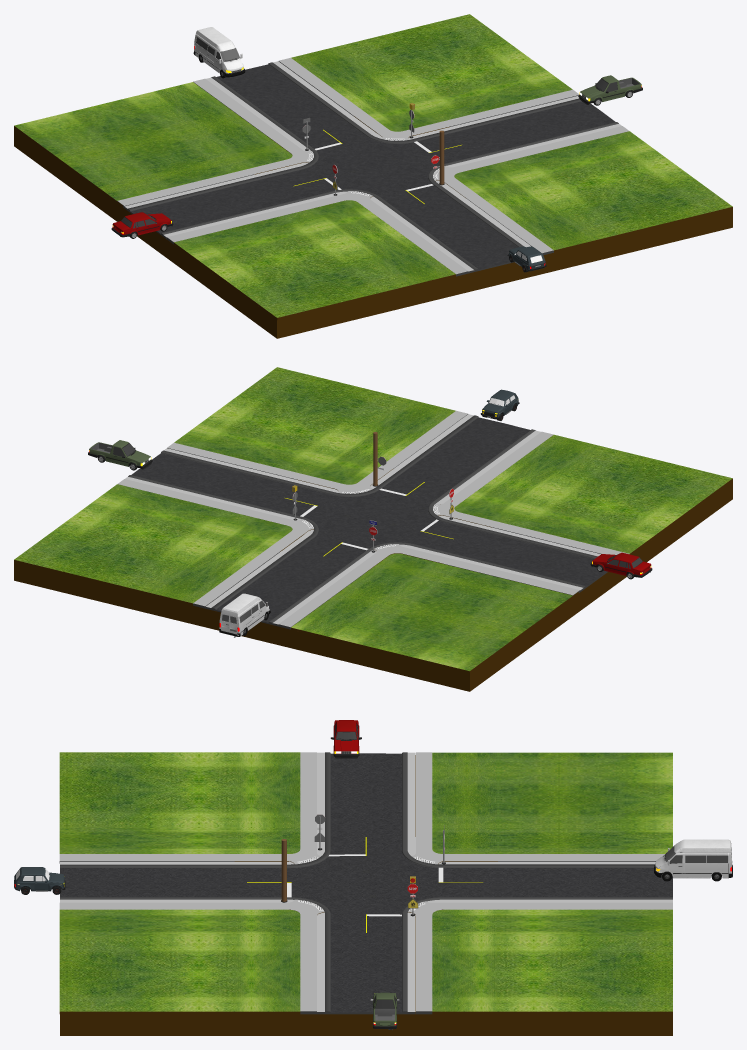
File: corners_of_faith_animate9_6TVeu5a.glb
The picture shows the model from 3 angles, top to bottom: view 1: azimuth 30°, elevation 25°; view 2: azimuth 150°, elevation 25°; view 3: azimuth 270°, elevation 25°; orthographic projection. The views are drawn at different scales.
Visible parts, largest first — view 1: polySurface58, polySurface12.001, Ground.001, pPlane25.001, polySurface59, polySurface17.001, van, pickup_truck, car, SUV; view 2: polySurface58, polySurface12.001, Ground.001, pPlane25.001, polySurface59, polySurface17.001, van, pickup_truck, car, SUV; view 3: polySurface58, polySurface12.001, Ground.001, polySurface59, pPlane25.001, polySurface17.001, van, SUV, car, pickup_truck.
Part boxes in pixels (x1=…): polySurface58: x1=174, y1=14, x2=732, y2=320; polySurface12.001: x1=128, y1=62, x2=618, y2=271; Ground.001: x1=14, y1=77, x2=310, y2=210; pPlane25.001: x1=14, y1=128, x2=732, y2=338; polySurface59: x1=117, y1=57, x2=629, y2=276; polySurface17.001: x1=163, y1=61, x2=621, y2=273; van: x1=193, y1=27, x2=245, y2=78; pickup_truck: x1=578, y1=75, x2=642, y2=105; car: x1=111, y1=212, x2=173, y2=238; SUV: x1=507, y1=246, x2=546, y2=272; polySurface58: x1=14, y1=367, x2=732, y2=605; polySurface12.001: x1=128, y1=415, x2=607, y2=624; Ground.001: x1=272, y1=544, x2=583, y2=672; pPlane25.001: x1=14, y1=481, x2=732, y2=691; polySurface59: x1=117, y1=410, x2=629, y2=629; polySurface17.001: x1=125, y1=414, x2=600, y2=609; van: x1=219, y1=593, x2=270, y2=637; pickup_truck: x1=88, y1=440, x2=152, y2=470; car: x1=590, y1=552, x2=652, y2=579; SUV: x1=480, y1=389, x2=519, y2=420; polySurface58: x1=59, y1=752, x2=672, y2=1014; polySurface12.001: x1=60, y1=752, x2=672, y2=1014; Ground.001: x1=407, y1=752, x2=672, y2=864; polySurface59: x1=59, y1=752, x2=672, y2=1014; pPlane25.001: x1=60, y1=755, x2=672, y2=1035; polySurface17.001: x1=60, y1=752, x2=672, y2=1014; van: x1=654, y1=839, x2=732, y2=881; SUV: x1=14, y1=867, x2=65, y2=894; car: x1=330, y1=720, x2=361, y2=758; pickup_truck: x1=370, y1=992, x2=399, y2=1030.
Size of the model in its own units: 41.4 by 5.37 by 41.05.
Materials: 21 (4 with a texture image).
